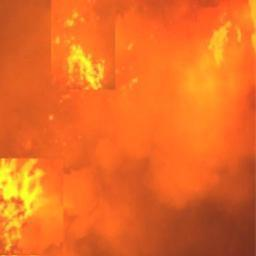Heavy smoke: (0, 0, 255, 255)
Medium fire: (49, 6, 118, 95), (2, 158, 65, 255)
